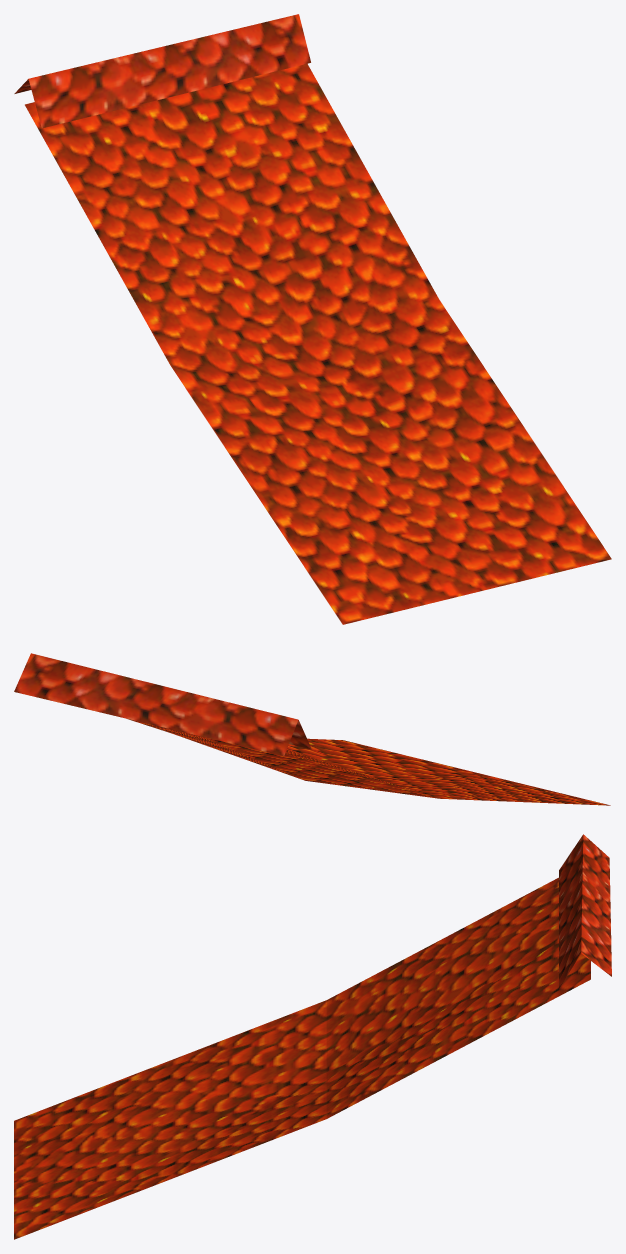
Rendered from Dach_PultZiegel_809.glb.
3 renders of one model, top to bottom at view 1: azimuth 30°, elevation 25°; view 2: azimuth 150°, elevation 25°; view 3: azimuth 270°, elevation 25°, orthographic. The views are drawn at different scales.
Visible parts, largest first — view 1: polySurfaceShape1207, polySurfaceShape1206; view 2: polySurfaceShape1206, polySurfaceShape1207; view 3: polySurfaceShape1207, polySurfaceShape1206.
Boxes of the visible parts, x1=… form: polySurfaceShape1207: x1=25, y1=63, x2=611, y2=624; polySurfaceShape1206: x1=14, y1=14, x2=310, y2=128; polySurfaceShape1206: x1=14, y1=653, x2=311, y2=755; polySurfaceShape1207: x1=128, y1=719, x2=610, y2=805; polySurfaceShape1207: x1=14, y1=877, x2=590, y2=1239; polySurfaceShape1206: x1=559, y1=834, x2=611, y2=988.
Bounding box in the file's own units: 0.2669 × 0.2995 × 0.5663.
Materials: 2 (2 with a texture image).
